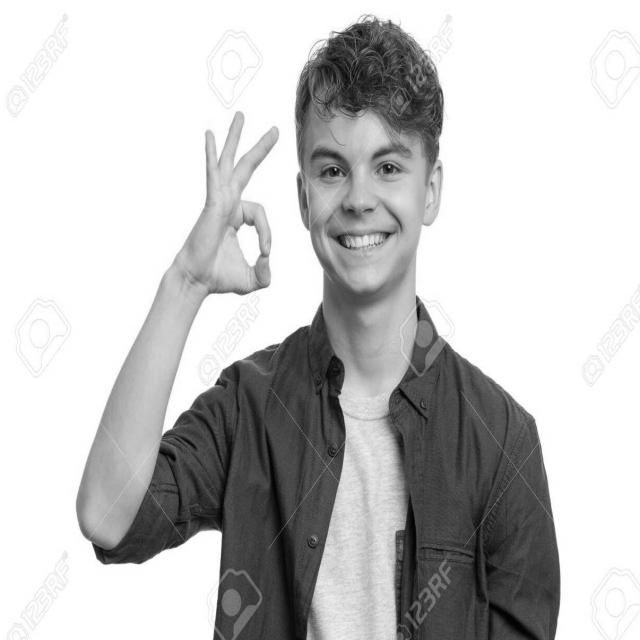perfect: (165, 103, 285, 307)
